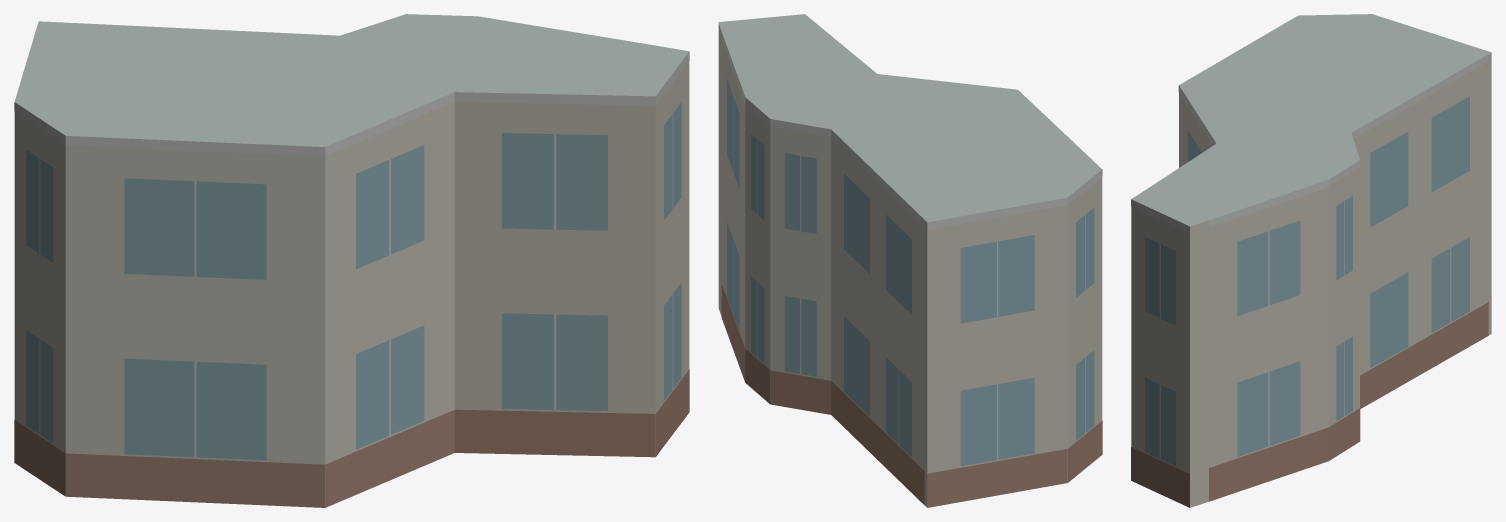
The model's file is survey-upis-32499798.glb.
3 renders of one model, left to right at view 1: azimuth 30°, elevation 25°; view 2: azimuth 150°, elevation 25°; view 3: azimuth 270°, elevation 25°, orthographic. The views are drawn at different scales.
Visible parts, largest first — view 1: survey-upis-32499798.tmp; view 2: survey-upis-32499798.tmp; view 3: survey-upis-32499798.tmp.
Part boxes in pixels (box(x1,y1,x2,y2)): survey-upis-32499798.tmp: box(14, 14, 689, 507); survey-upis-32499798.tmp: box(718, 14, 1102, 507); survey-upis-32499798.tmp: box(1131, 14, 1491, 507).
Size of the model in its own units: 14.9 by 9.2 by 10.69.
